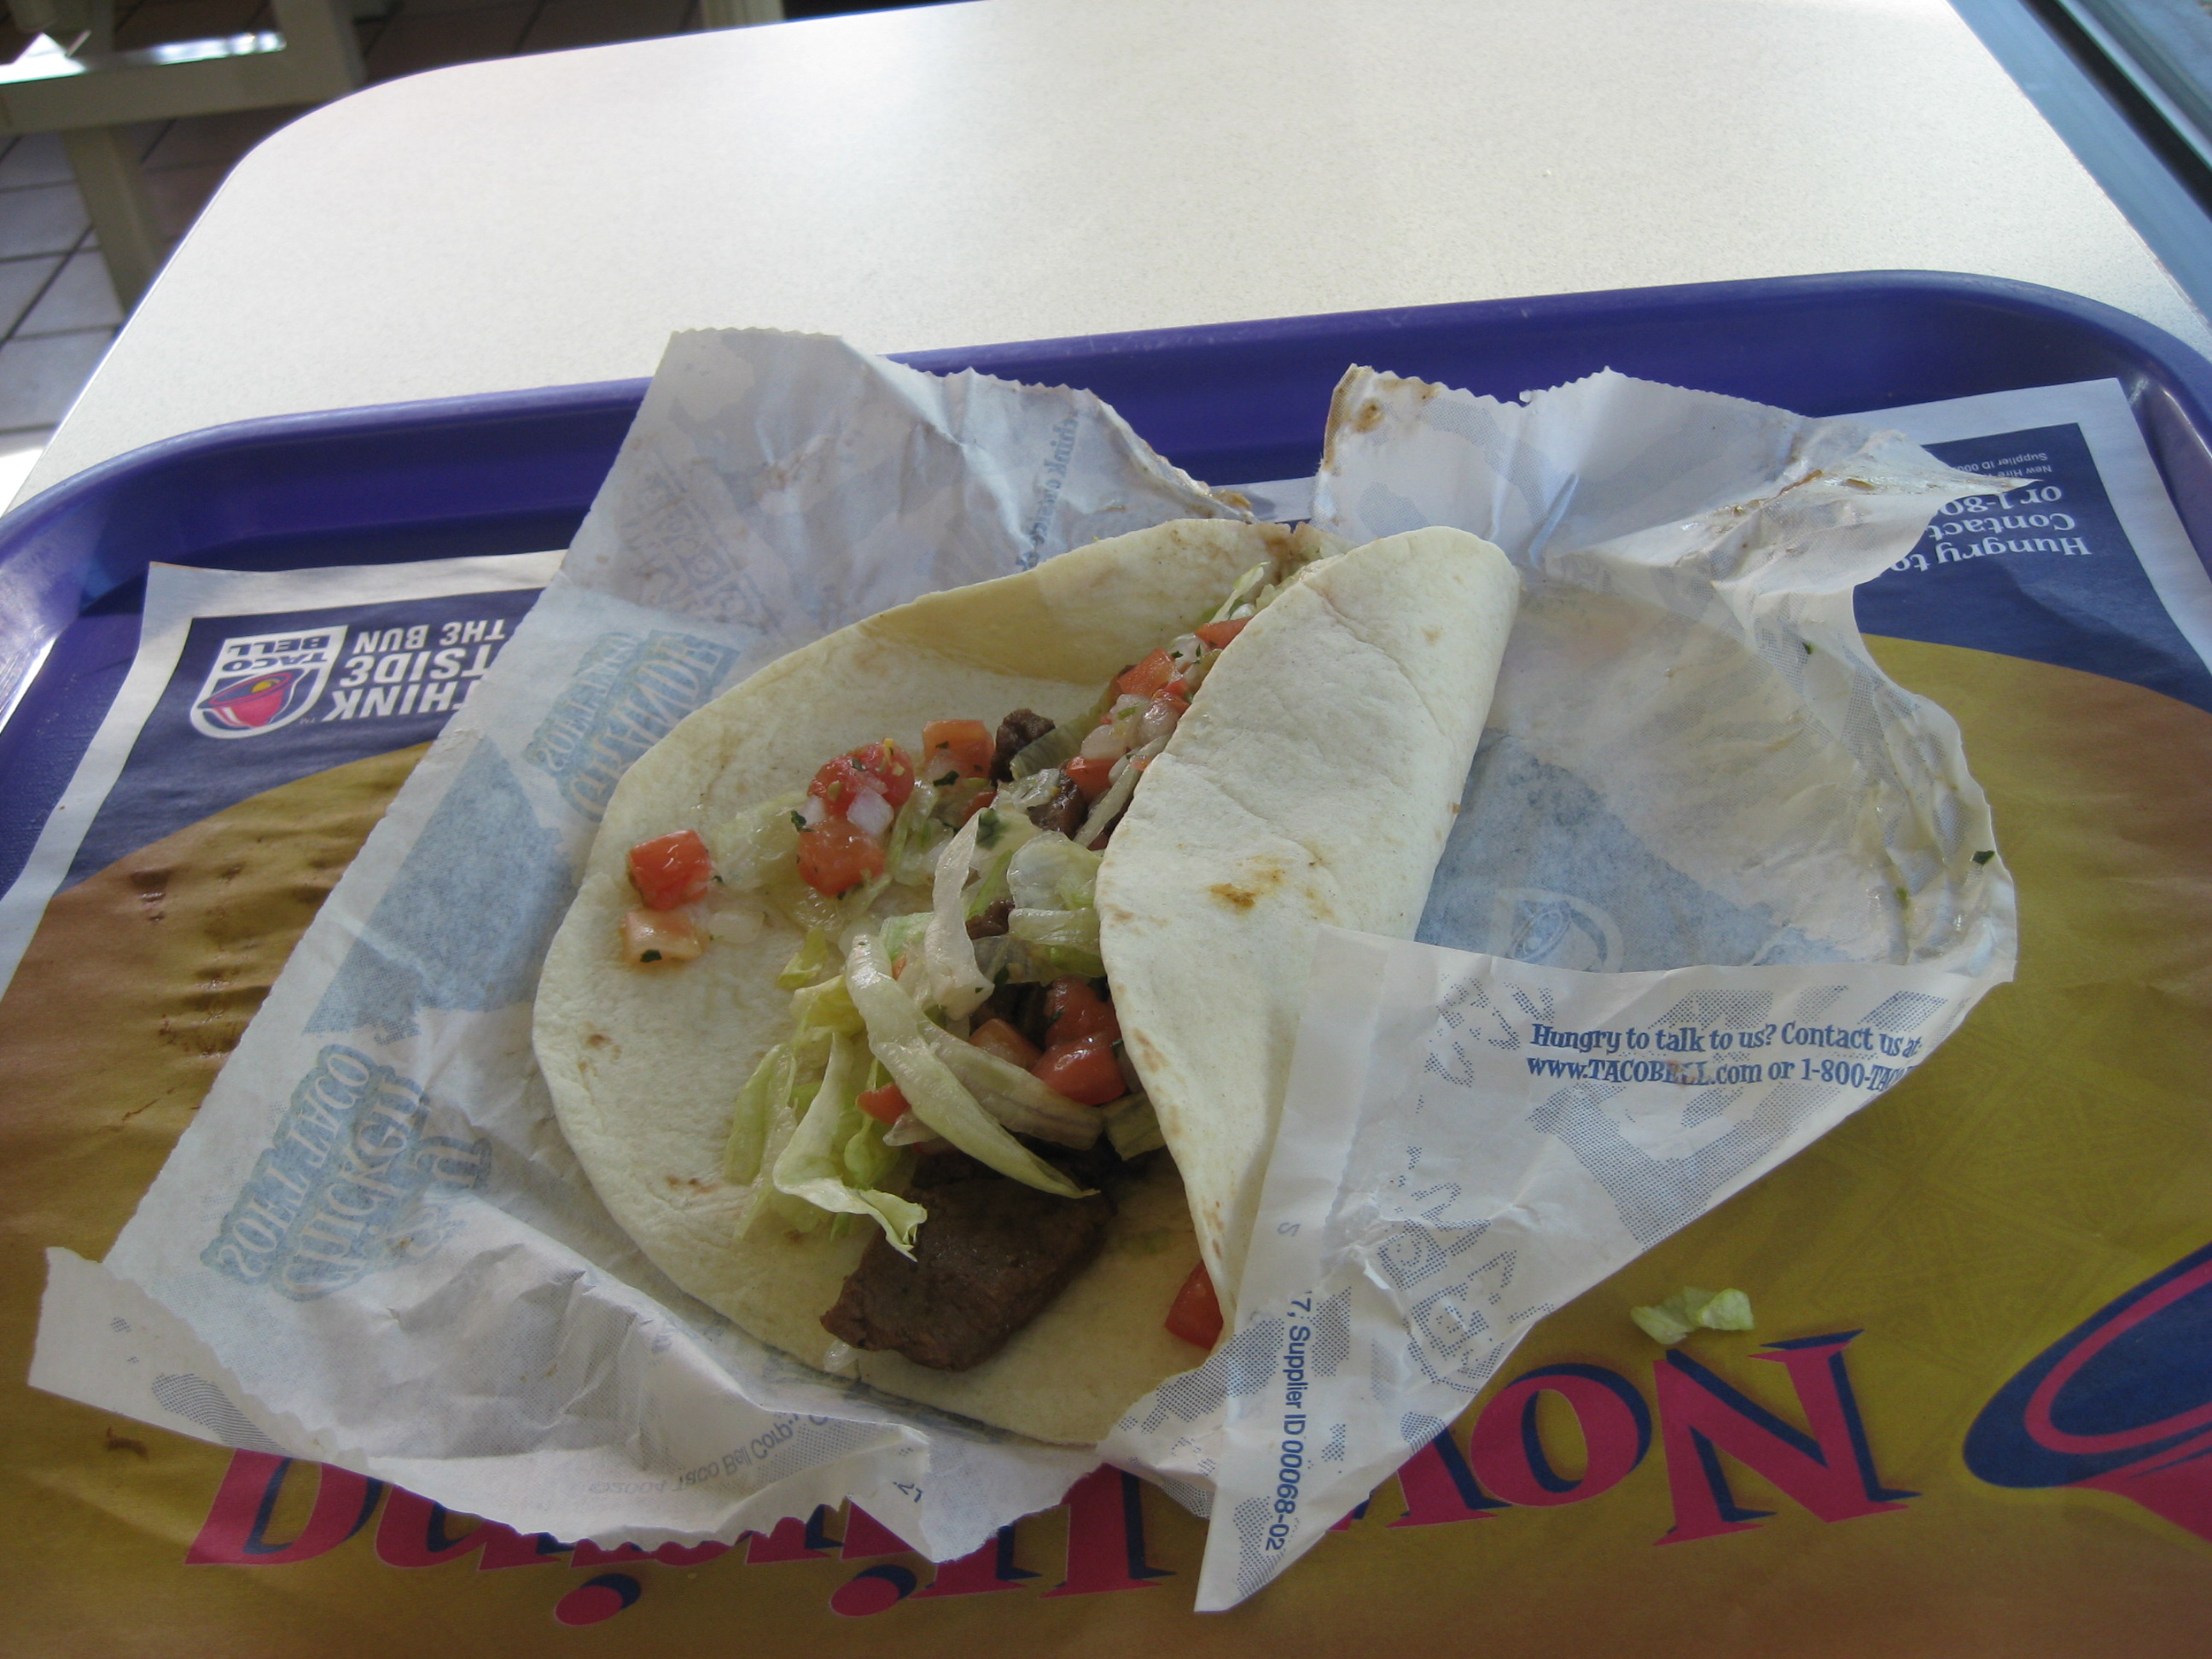taco: (554, 445, 1568, 1440)
